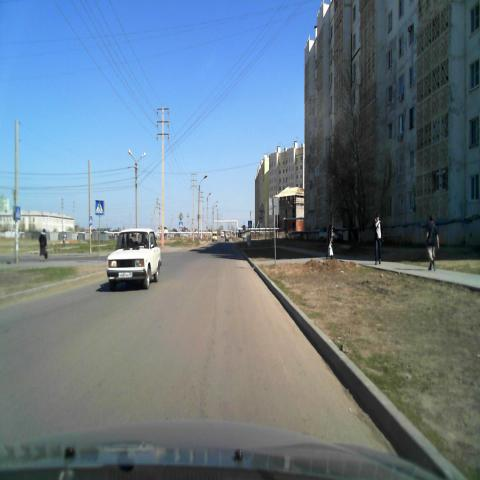5_19_1: (95, 200, 105, 216), (14, 205, 22, 223)
